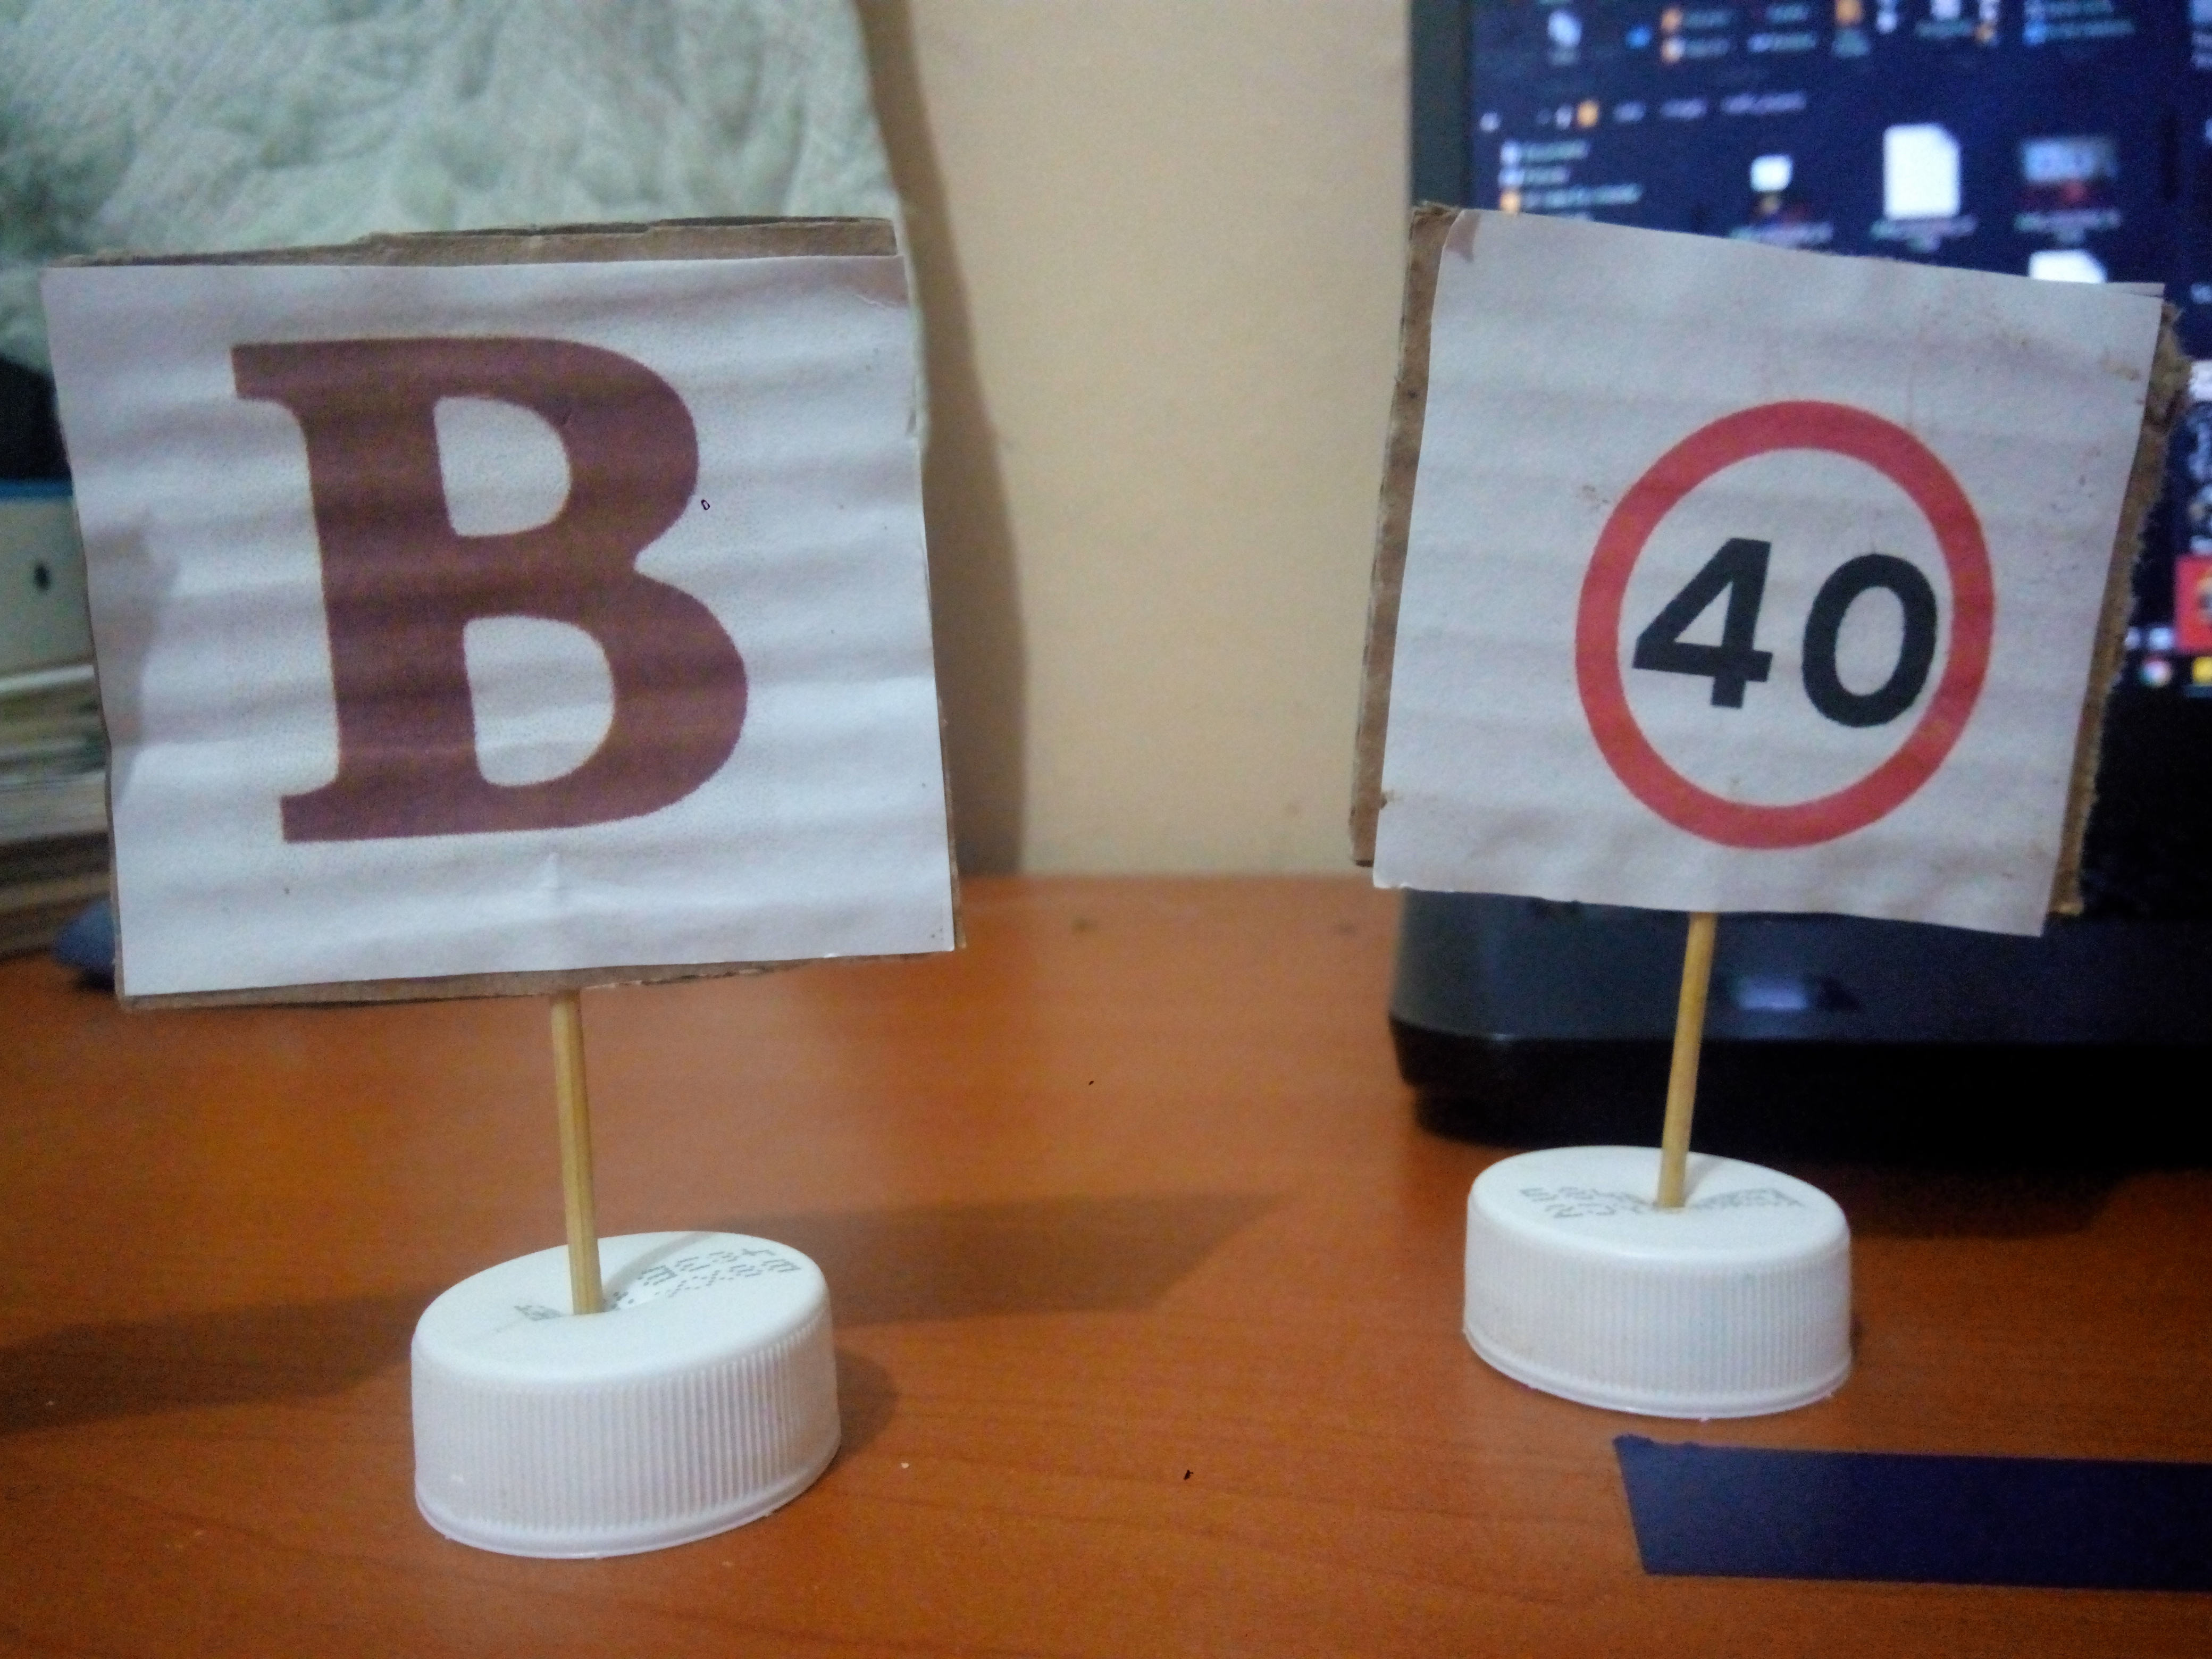40 kph: (1547, 345, 2006, 870)
zone B: (167, 300, 829, 868)
